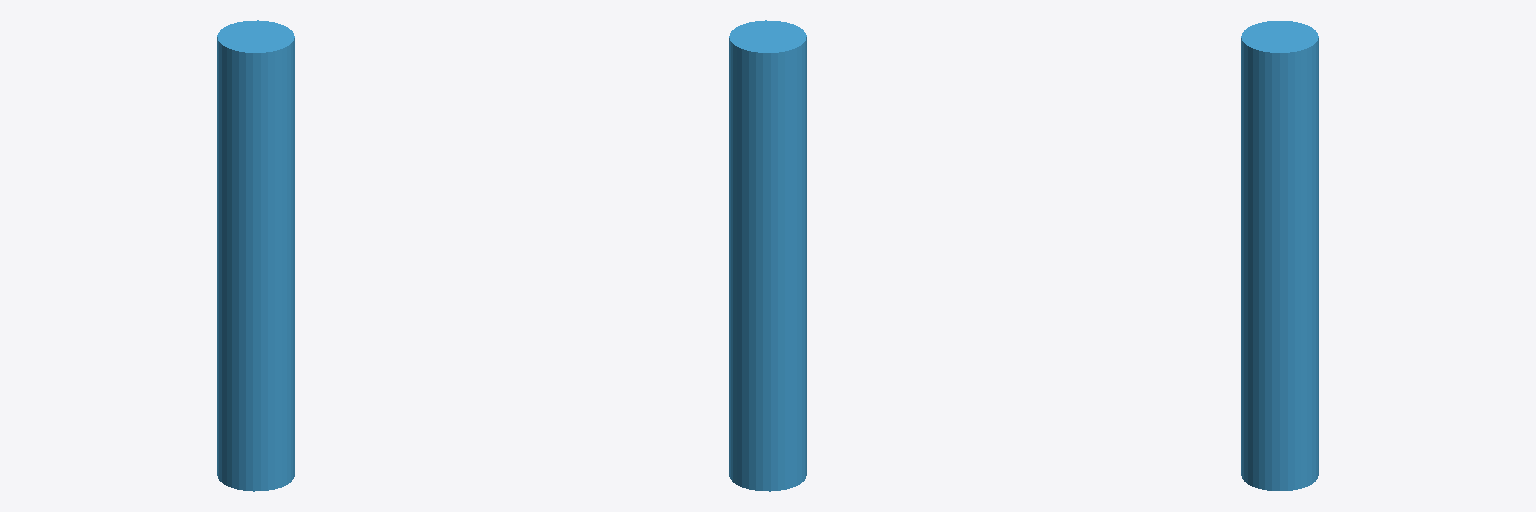
robot.urdf — xarm6_stick:
<?xml version="1.0" encoding="utf-8"?>
<robot name="xarm6_stick">
  <link name="world"/>
  <joint name="world_joint" type="fixed">
    <parent link="world"/>
    <child link="link_base"/>
    <origin rpy="0 0 0" xyz="0 0 0"/>
  </joint>

  <material name="Black">
    <color rgba="0.0 0.0 0.0 1.0"/>
  </material>
  <material name="Red">
    <color rgba="0.8 0.0 0.0 1.0"/>
  </material>
  <material name="White">
    <color rgba="1.0 1.0 1.0 1.0"/>
  </material>
  <material name="Silver">
    <color rgba="0.753 0.753 0.753 1.0"/>
  </material>
  <material name="MaterialFromMTL">
    <color rgba="0.8 0.8 0.8 1.0"/>
    <specular rgb="0.8 0.8 0.8"/>
    <ambient rgb="0.8 0.8 0.8"/>
    <diffuse rgb="0.8 0.8 0.8"/>
  </material>
  <material name="MaterialFromMTL2">
    <color rgba="0.8 0.8 0.8 1.0"/>
    <specular rgb="0.5 0.5 0.5"/>
    <ambient rgb="1.0 1.0 1.0"/>
    <diffuse rgb="0.8 0.8 0.8"/>
  </material>

  <link name="link_base">
    <visual>
      <geometry>
        <mesh filename="visual/base.stl"/>
      </geometry>
      <origin rpy="0 0 0" xyz="0 0 0"/>
      <material name="MaterialFromMTL"/>
    </visual>
    <collision>
      <geometry>
        <mesh filename="collision/base_vhacd.obj"/>
      </geometry>
      <origin rpy="0 0 0" xyz="0 0 0"/>
    </collision>
    <inertial>
      <origin rpy="0 0 0" xyz="0.0 0.0 0.09103"/>
      <mass value="2.7"/>
      <inertia ixx="0.00494875" ixy="-3.5E-06" ixz="1.25E-05" iyy="0.00494174" iyz="1.67E-06" izz="0.002219"/>
    </inertial>
  </link>

  <link name="link1">
    <visual>
      <geometry>
        <mesh filename="visual/link1.stl"/>
      </geometry>
      <origin rpy="0 0 0" xyz="0 0 0"/>
      <material name="MaterialFromMTL"/>
    </visual>
    <collision>
      <geometry>
        <mesh filename="collision/link1_vhacd.obj"/>
      </geometry>
      <origin rpy="0 0 0" xyz="0 0 0"/>
    </collision>
    <inertial>
      <origin rpy="0 0 0" xyz="-0.002 0.02692 -0.01332"/>
      <mass value="2.16"/>
      <inertia ixx="0.00539427" ixy="1.095E-05" ixz="1.635E-06" iyy="0.0048979" iyz="0.000793" izz="0.00311573"/>
    </inertial>
  </link>

  <joint name="joint1" type="revolute">
    <safety_controller k_position="100.0" k_velocity="40.0" soft_lower_limit="-6.28318530718" soft_upper_limit="6.28318530718"/>
    <parent link="link_base"/>
    <child link="link1"/>
    <origin rpy="0 0 0" xyz="0 0 0.267"/>
    <axis xyz="0 0 1"/>
    <limit effort="50.0" lower="-6.28318530718" upper="6.28318530718" velocity="3.14"/>
    <dynamics damping="1.0" friction="1.0"/>
  </joint>

  <link name="link2">
    <visual>
      <geometry>
        <mesh filename="visual/link2.stl"/>
      </geometry>
      <origin rpy="0 0 0" xyz="0 0 0"/>
      <material name="MaterialFromMTL"/>
    </visual>
    <collision>
      <geometry>
        <mesh filename="collision/link2_vhacd2.obj"/>
      </geometry>
      <origin rpy="0 0 0" xyz="0 0 0"/>
    </collision>
    <inertial>
      <origin rpy="0 0 0" xyz="0.03531 -0.21398 0.03386"/>
      <mass value="1.71"/>
      <inertia ixx="0.0248674" ixy="-0.00430651" ixz="-0.00067797" iyy="0.00485548" iyz="0.00457245" izz="0.02387827"/>
    </inertial>
  </link>

  <joint name="joint2" type="revolute">
    <safety_controller k_position="100.0" k_velocity="40.0" soft_lower_limit="-2.059" soft_upper_limit="2.059"/>
    <parent link="link1"/>
    <child link="link2"/>
    <origin rpy="-1.5708 0 0" xyz="0 0 0"/>
    <axis xyz="0 0 1"/>
    <limit effort="50.0" lower="-2.059" upper="2.0944" velocity="3.14"/>
    <dynamics damping="1.0" friction="1.0"/>
  </joint>

  <link name="link3">
    <visual>
      <geometry>
        <mesh filename="visual/link3.stl"/>
      </geometry>
      <origin rpy="0 0 0" xyz="0 0 0"/>
      <material name="MaterialFromMTL"/>
    </visual>
    <collision>
      <geometry>
        <mesh filename="collision/link3_vhacd.obj"/>
      </geometry>
      <origin rpy="0 0 0" xyz="0 0 0"/>
    </collision>
    <inertial>
      <origin rpy="0 0 0" xyz="0.06781 0.10749 0.01457"/>
      <mass value="1.384"/>
      <inertia ixx="0.0053694" ixy="0.0014185" ixz="-0.00092094" iyy="0.0032423" iyz="-0.00169178" izz="0.00501731"/>
    </inertial>
  </link>

  <joint name="joint3" type="revolute">
    <safety_controller k_position="100.0" k_velocity="40.0" soft_lower_limit="-3.8" soft_upper_limit="0.19198"/>
    <parent link="link2"/>
    <child link="link3"/>
    <origin rpy="0 0 0" xyz="0.0535 -0.2845 0"/>
    <axis xyz="0 0 1"/>
    <limit effort="32.0" lower="-3.8" upper="0.19198" velocity="3.14"/>
    <dynamics damping="1.0" friction="1.0"/>
  </joint>

  <link name="link4">
    <visual>
      <geometry>
        <mesh filename="visual/link4.stl"/>
      </geometry>
      <origin rpy="0 0 0" xyz="0 0 0"/>
      <material name="MaterialFromMTL"/>
    </visual>
    <collision>
      <geometry>
        <mesh filename="collision/link4_vhacd.obj"/>
      </geometry>
      <origin rpy="0 0 0" xyz="0 0 0"/>
    </collision>
    <inertial>
      <origin rpy="0 0 0" xyz="-0.00021 0.02578 -0.02538"/>
      <mass value="1.115"/>
      <inertia ixx="0.00439263" ixy="5.028E-05" ixz="1.374E-05" iyy="0.0040077" iyz="0.00045338" izz="0.00110321"/>
    </inertial>
  </link>

  <joint name="joint4" type="revolute">
    <safety_controller k_position="100.0" k_velocity="40.0" soft_lower_limit="-6.28318530718" soft_upper_limit="6.28318530718"/>
    <parent link="link3"/>
    <child link="link4"/>
    <origin rpy="-1.5708 0 0" xyz="0.0775 0.3425 0"/>
    <axis xyz="0 0 1"/>
    <limit effort="32.0" lower="-6.28318530718" upper="6.28318530718" velocity="3.14"/>
    <dynamics damping="1.0" friction="1.0"/>
  </joint>

  <link name="link5">
    <visual>
      <geometry>
        <mesh filename="visual/link5.stl"/>
      </geometry>
      <origin rpy="0 0 0" xyz="0 0 0"/>
      <material name="MaterialFromMTL"/>
    </visual>
    <collision>
      <geometry>
        <mesh filename="collision/link5_vhacd.obj"/>
      </geometry>
      <origin rpy="0 0 0" xyz="0 0 0"/>
    </collision>
    <inertial>
      <origin rpy="0 0 0" xyz="0.05428 0.01781 0.00543"/>
      <mass value="1.275"/>
      <inertia ixx="0.001202758" ixy="0.000492428" ixz="-0.00039147" iyy="0.0022876" iyz="-1.235E-04" izz="0.0026866"/>
    </inertial>
  </link>

  <joint name="joint5" type="revolute">
    <safety_controller k_position="100.0" k_velocity="40.0" soft_lower_limit="-1.69297" soft_upper_limit="3.14159265359"/>
    <parent link="link4"/>
    <child link="link5"/>
    <origin rpy="1.5708 0 0" xyz="0 0 0"/>
    <axis xyz="0 0 1"/>
    <limit effort="32.0" lower="-1.69297" upper="3.14159265359" velocity="3.14"/>
    <dynamics damping="1.0" friction="1.0"/>
  </joint>

  <link name="link6">
    <visual>
      <geometry>
        <mesh filename="visual/link6.stl"/>
      </geometry>
      <origin rpy="0 0 0" xyz="0 0 0"/>
      <material name="Silver"/>
    </visual>
    <collision>
      <geometry>
        <mesh filename="visual/link6.stl"/>
      </geometry>
      <origin rpy="0 0 0" xyz="0 0 0"/>
    </collision>
    <inertial>
      <origin rpy="0 0 0" xyz="0 0.00064 -0.00952"/>
      <mass value="0.1096"/>
      <inertia ixx="4.5293E-05" ixy="0" ixz="0" iyy="4.8111E-05" iyz="0" izz="7.9715E-05"/>
    </inertial>
  </link>

  <joint name="joint6" type="revolute">
    <safety_controller k_position="100.0" k_velocity="40.0" soft_lower_limit="-6.28318530718" soft_upper_limit="6.28318530718"/>
    <parent link="link5"/>
    <child link="link6"/>
    <origin rpy="-1.5708 0 0" xyz="0.076 0.097 0"/>
    <axis xyz="0 0 1"/>
    <limit effort="20.0" lower="-6.28318530718" upper="6.28318530718" velocity="3.14"/>
    <dynamics damping="1.0" friction="1.0"/>
  </joint>

  <link name="camera_link" />
  <joint name="camera_link_joint" type="fixed">
    <parent link="link6"/>
    <child link="camera_link"/>
    <origin xyz="0.05 0 0" rpy="3.141592653589793 -0.0 1.5707963267948966"/>
  </joint>

  <!-- Stick attachment from Panda -->
  <joint name="stick_mount" type="fixed">
    <parent link="link6"/>
    <child link="panda_hand"/>
    <origin rpy="0 0 0" xyz="0 0 0"/>
  </joint>

  <link name="panda_hand">
    <visual>
      <geometry>
        <mesh filename="franka_description/meshes/visual/hand.glb" />
      </geometry>
    </visual>
    <visual>
      <origin xyz="0 0 0.1" rpy="0 0 0"/>
      <geometry>
        <cylinder radius="0.008" length="0.1"/>
      </geometry>
    </visual>
    <collision>
      <geometry>
        <mesh filename="franka_description/meshes/collision/hand.stl" />
      </geometry>
    </collision>
    <collision>
      <origin xyz="0 0 0.1" rpy="0 0 0"/>
      <geometry>
        <cylinder radius="0.008" length="0.1"/>
      </geometry>
    </collision>
  </link>

  <link name="panda_hand_tcp"/>
  <joint name="panda_hand_tcp_joint" type="fixed">
    <origin rpy="0 0 0" xyz="0 0 0.15"/>
    <parent link="panda_hand"/>
    <child link="panda_hand_tcp"/>
  </joint>
</robot>

--- Facts derived from the render (not from the file) ---
The picture shows the robot from 3 angles, left to right: view 1: azimuth 30°, elevation 25°; view 2: azimuth 150°, elevation 25°; view 3: azimuth 270°, elevation 25°; orthographic projection.
Robot: xarm6_stick — 11 links, 10 joints (6 revolute, 4 fixed); root link world; default pose: every joint at zero.
Links seen in each view (by area): view 1: panda_hand; view 2: panda_hand; view 3: panda_hand.
Link boxes in pixels (left/top/right/bottom): panda_hand: left=217, top=20, right=294, bottom=491; panda_hand: left=729, top=20, right=806, bottom=491; panda_hand: left=1241, top=21, right=1318, bottom=490.
Bounding box of the posed robot: 0.016 × 0.016 × 0.1 m (x, y, z).
Meshes: 8 distinct files referenced, 0 mesh visuals loaded (none loaded); not drawn: 8 (reference not matched to a file when rendering).